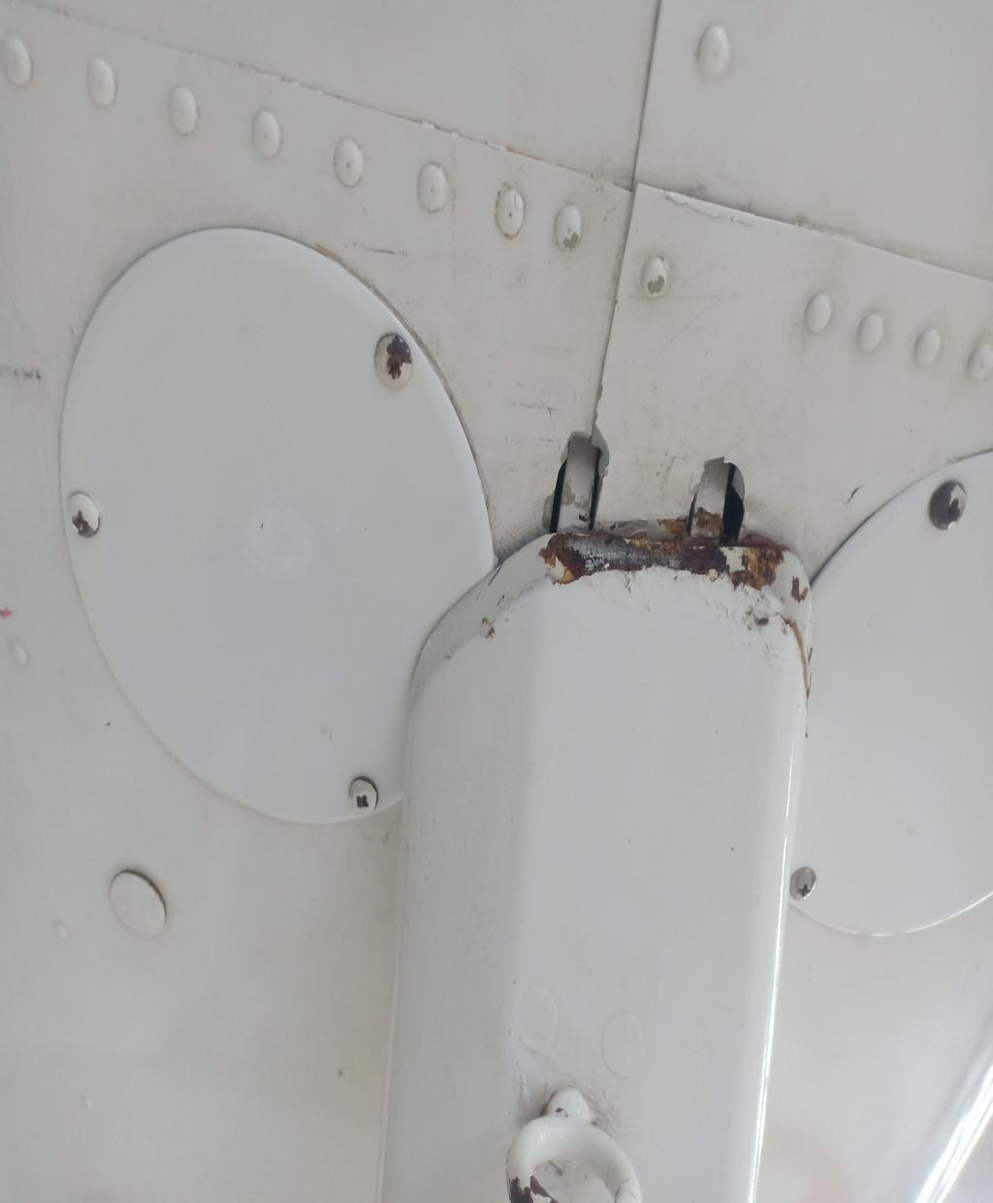corrosion: (542, 515, 792, 590), (928, 479, 966, 542), (382, 331, 418, 377), (69, 503, 102, 543)
